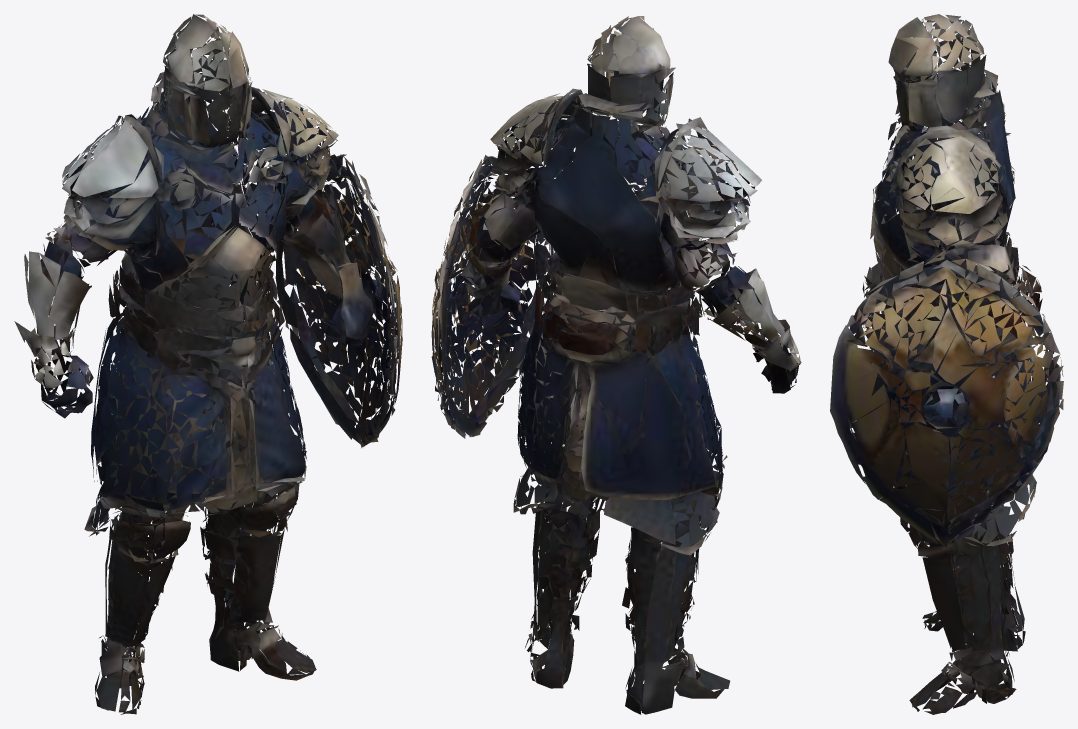
File: human.glb
3 renders of one model, left to right at view 1: azimuth 30°, elevation 25°; view 2: azimuth 150°, elevation 25°; view 3: azimuth 270°, elevation 25°, orthographic. The views are drawn at different scales.
Parts seen in each view (by area): view 1: reference; view 2: reference; view 3: reference.
Boxes of the visible parts, left/top/right/bottom form: reference: left=14, top=14, right=402, bottom=714; reference: left=431, top=16, right=801, bottom=714; reference: left=830, top=14, right=1063, bottom=714.
Size of the model in its own units: 0.9959 by 1.8 by 0.5803.
Materials: 1 (1 with a texture image).
